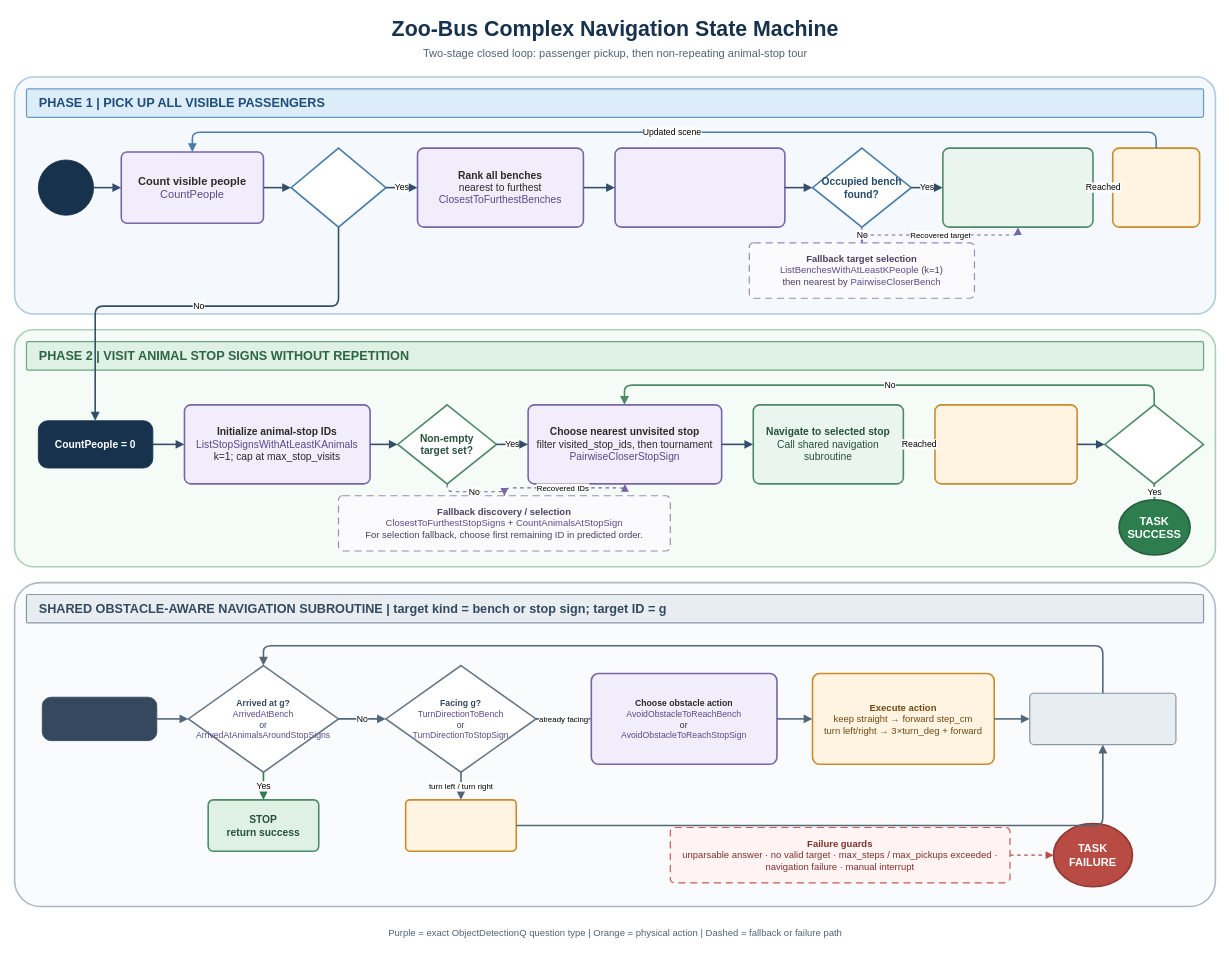
The diagram is 1229 pixels wide and 959 high, and some of its shapes have lost their labels. Each missing label, with the centre of its shape:
"All initialized IDs visited?" goes at point 1154,444.
"Count > 0?" goes at point 338,187.
"Enter with target g" goes at point 99,718.
"Navigate to selected bench Call shared navigation subroutine" goes at point 1017,187.
"Re-observe live camera frame" goes at point 1102,718.
"Scan ranked benches first bench with count > 0 CountPeopleAtBench" goes at point 699,187.
"START" goes at point 66,187.
"STOP and pick up Manually remove people then re-observe scene" goes at point 1156,187.
"STOP, visit, mark ID visited_stop_ids.add(target)" goes at point 1006,444.
"Turn toward target turn left/right by turn_deg" goes at point 460,825.
